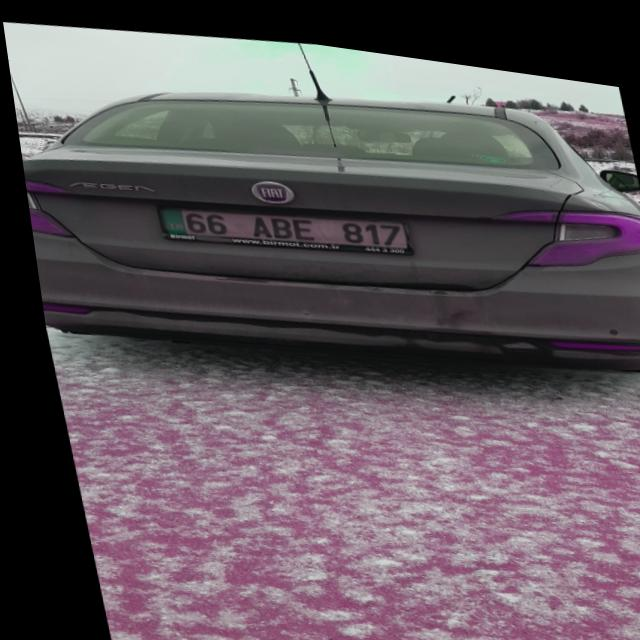license_plate: (148, 182, 408, 258)
